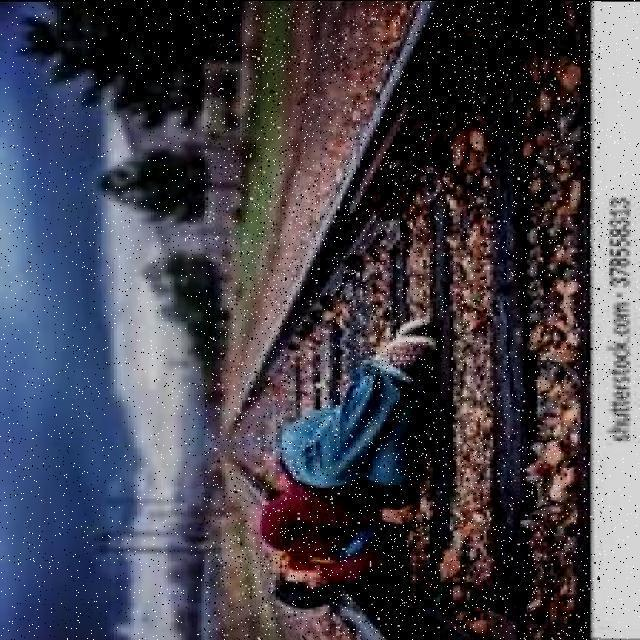danger: (265, 322, 452, 612)
rail: (205, 1, 601, 639)
